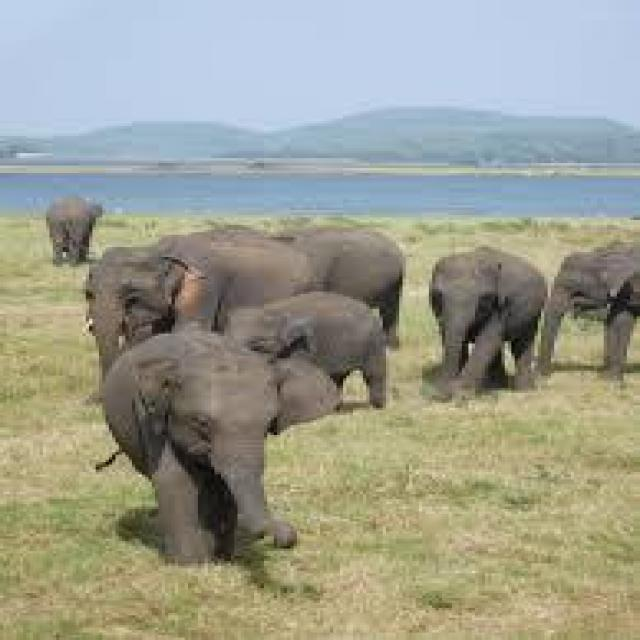Elephant: (102, 329, 287, 563), (426, 247, 538, 400), (544, 242, 637, 378), (43, 193, 96, 262)
